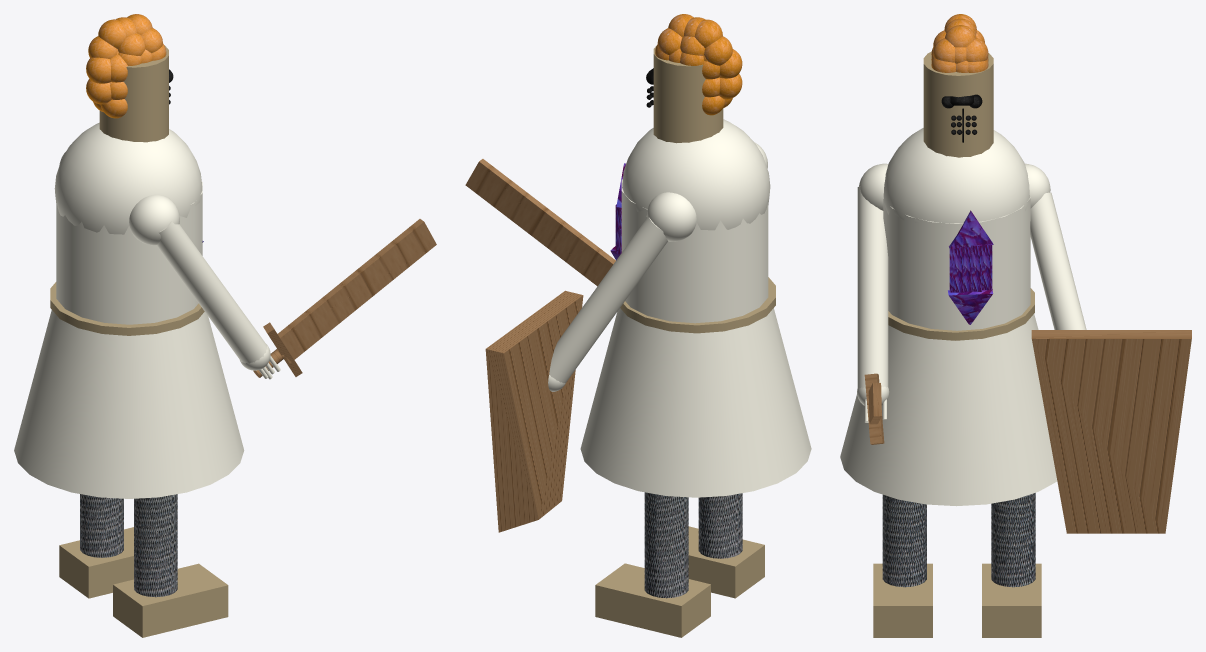
File: GUERRERO_NIVEL_1.fbx
3 views of the same model, side by side, from view 1: azimuth 30°, elevation 25°; view 2: azimuth 150°, elevation 25°; view 3: azimuth 270°, elevation 25° (orthographic).
Visible parts, largest first — view 1: Cone001, Cylinder003, Sphere001, Box007, Box001, Cylinder010, Cylinder001, Cylinder004, Box002, Cylinder002, Cylinder005, Sphere003 (+1 smaller); view 2: Cone001, Box011, Cylinder003, Sphere001, Cylinder017, Box007, Box002, Cylinder002, Cylinder004, Box001, Cylinder001, Cylinder005 (+3 smaller); view 3: Cone001, Box011, Cylinder003, Sphere001, Cylinder010, Cylinder004, Cylinder017, Cylinder002, Cylinder001, Box002, Box001, Cylinder005 (+10 smaller).
Boxes of the visible parts, x1=… form: Cone001: x1=14, y1=310, x2=244, y2=498; Cylinder003: x1=56, y1=181, x2=202, y2=324; Sphere001: x1=54, y1=122, x2=202, y2=234; Box007: x1=277, y1=219, x2=436, y2=363; Box001: x1=113, y1=563, x2=228, y2=637; Cylinder010: x1=157, y1=221, x2=267, y2=363; Cylinder001: x1=134, y1=494, x2=177, y2=597; Cylinder004: x1=99, y1=45, x2=168, y2=142; Box002: x1=59, y1=527, x2=133, y2=598; Cylinder002: x1=80, y1=494, x2=123, y2=557; Cylinder005: x1=50, y1=282, x2=204, y2=335; Sphere003: x1=129, y1=194, x2=179, y2=245; Cone001: x1=580, y1=308, x2=811, y2=497; Box011: x1=485, y1=290, x2=583, y2=532; Cylinder003: x1=621, y1=179, x2=768, y2=323; Sphere001: x1=622, y1=119, x2=770, y2=230; Cylinder017: x1=549, y1=217, x2=667, y2=383; Box007: x1=465, y1=159, x2=615, y2=286; Box002: x1=595, y1=563, x2=710, y2=637; Cylinder002: x1=644, y1=492, x2=688, y2=598; Cylinder004: x1=653, y1=45, x2=723, y2=143; Box001: x1=688, y1=526, x2=764, y2=598; Cylinder001: x1=698, y1=493, x2=742, y2=558; Cylinder005: x1=620, y1=277, x2=775, y2=333; Cone001: x1=840, y1=314, x2=1057, y2=506; Box011: x1=1031, y1=330, x2=1191, y2=533; Cylinder003: x1=883, y1=197, x2=1030, y2=330; Sphere001: x1=883, y1=128, x2=1029, y2=226; Cylinder010: x1=857, y1=186, x2=888, y2=388; Cylinder004: x1=923, y1=51, x2=993, y2=157; Cylinder017: x1=1030, y1=192, x2=1086, y2=329; Cylinder002: x1=991, y1=493, x2=1035, y2=587; Cylinder001: x1=882, y1=494, x2=926, y2=587; Box002: x1=982, y1=563, x2=1041, y2=637; Box001: x1=873, y1=563, x2=932, y2=637; Cylinder005: x1=888, y1=288, x2=1034, y2=340.
Bounding box in the file's own units: 0.9531 × 1.45 × 0.7842.
